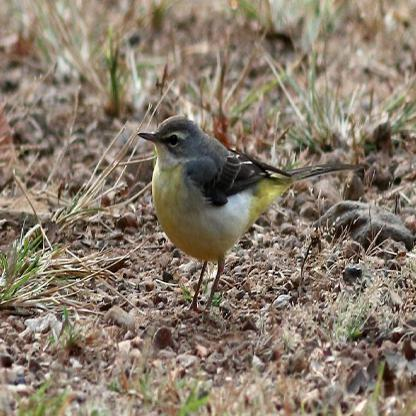Burung: (139, 114, 361, 321)
